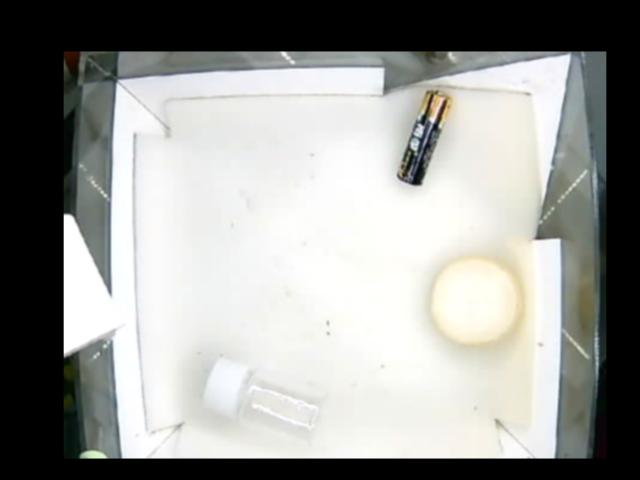Battery: (395, 90, 447, 187)
Bottle: (199, 353, 327, 439)
Mooli: (432, 255, 519, 344)
